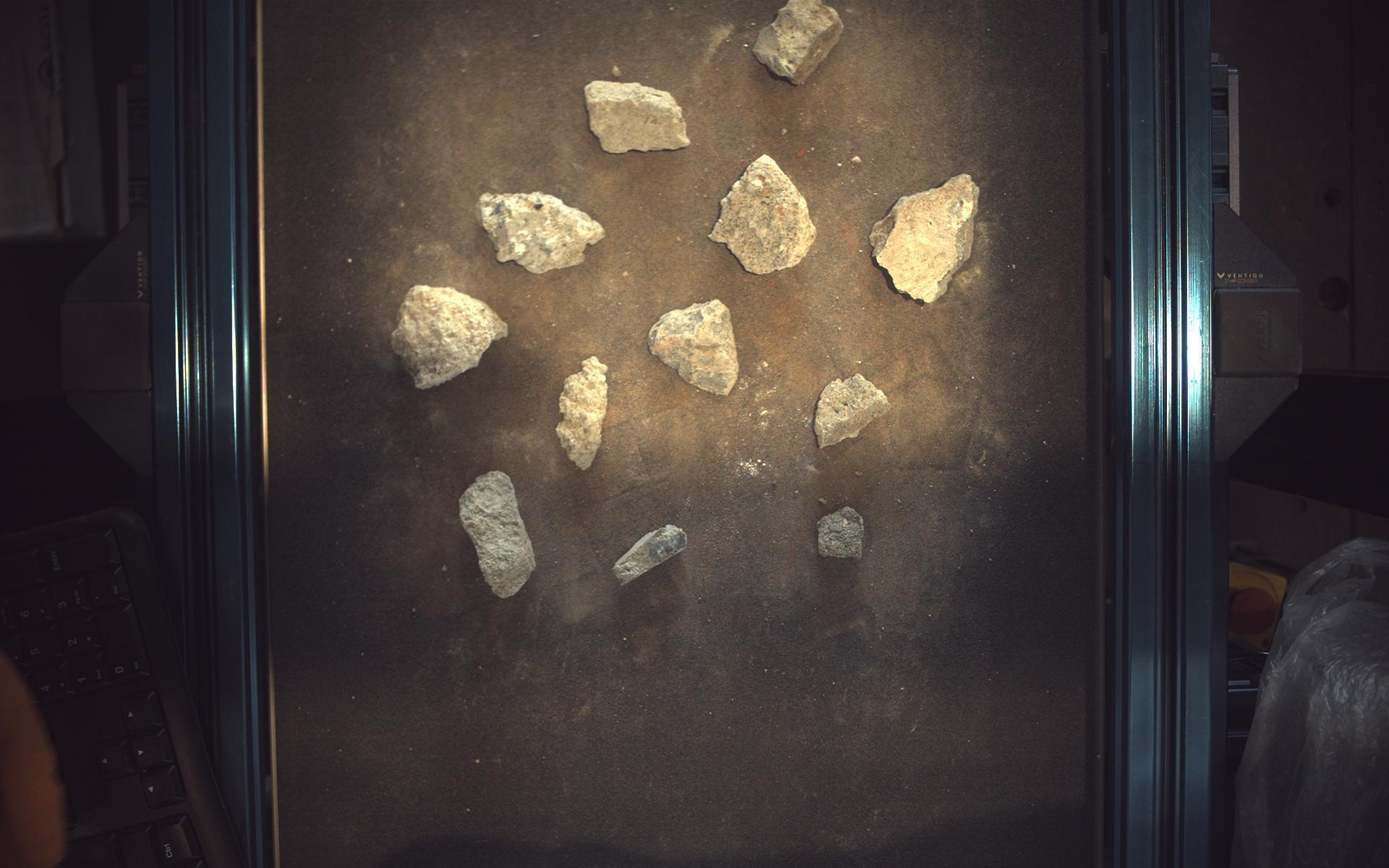concrete: (872, 174, 982, 302), (710, 154, 817, 273), (391, 284, 508, 389), (480, 191, 605, 273), (459, 471, 536, 599), (649, 299, 740, 396), (585, 80, 691, 153), (754, 1, 845, 83), (556, 356, 608, 470), (815, 374, 891, 448), (613, 525, 688, 585), (819, 507, 866, 559)
